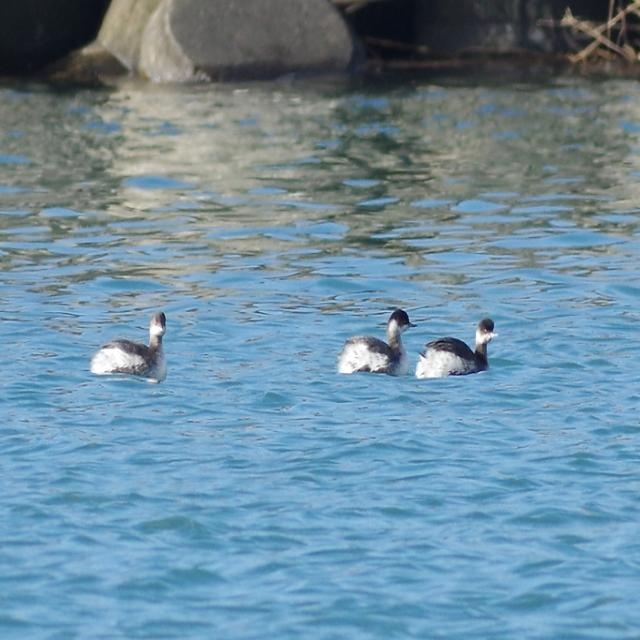bird: (409, 314, 501, 377), (336, 306, 418, 376), (87, 311, 172, 378)
